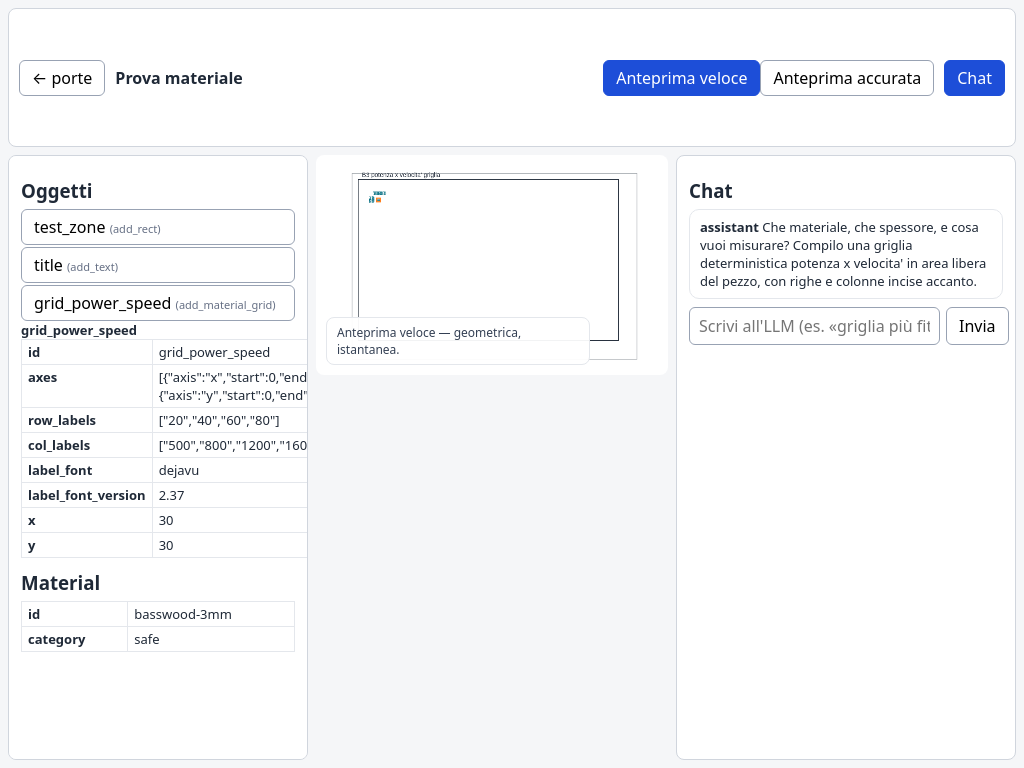
it: chat › accepts input and appends it to the message list
Step 1. Type "griglia piu' fitta" into the field with test id "chat-input" → (814, 326), box [689,307,940,345]
Then press Enter
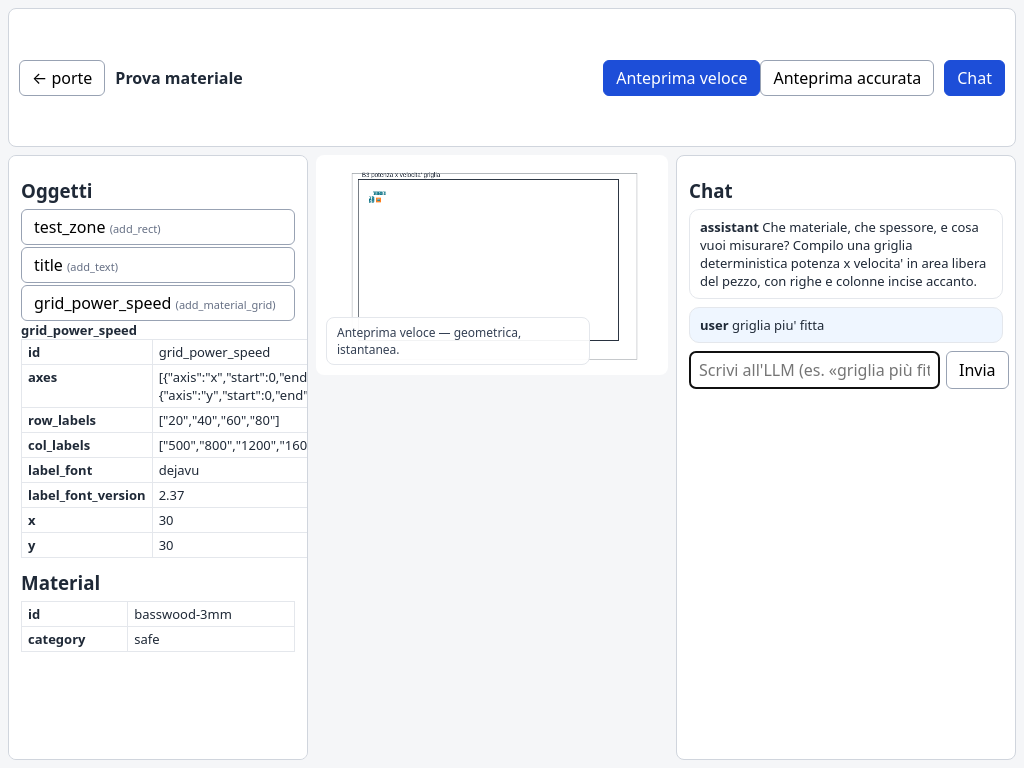
Expected: the list with test id "chat-log" shows "griglia piu' fitta", [732,316,824,334]
# the append is preserved on follow-up messages
Step 2. Type "secondo messaggio" into the field with test id "chat-input" → (814, 370), box [689,351,940,389]
Then press Enter
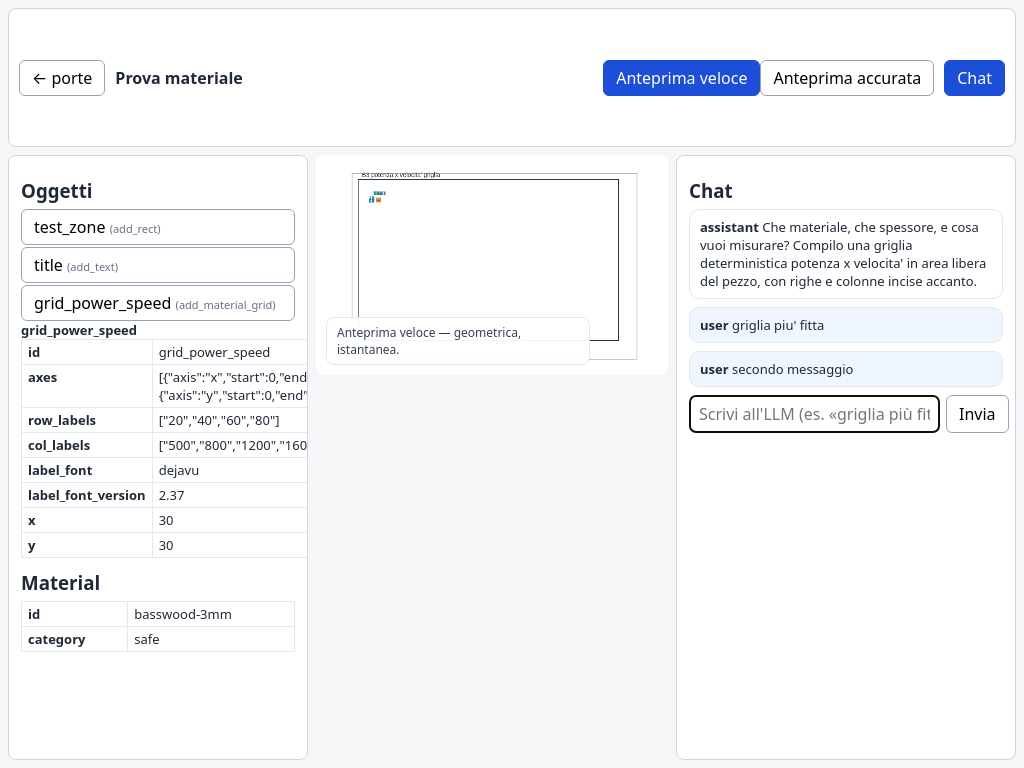
Expected: the list with test id "chat-log" shows "secondo messaggio", [732,360,853,378]
